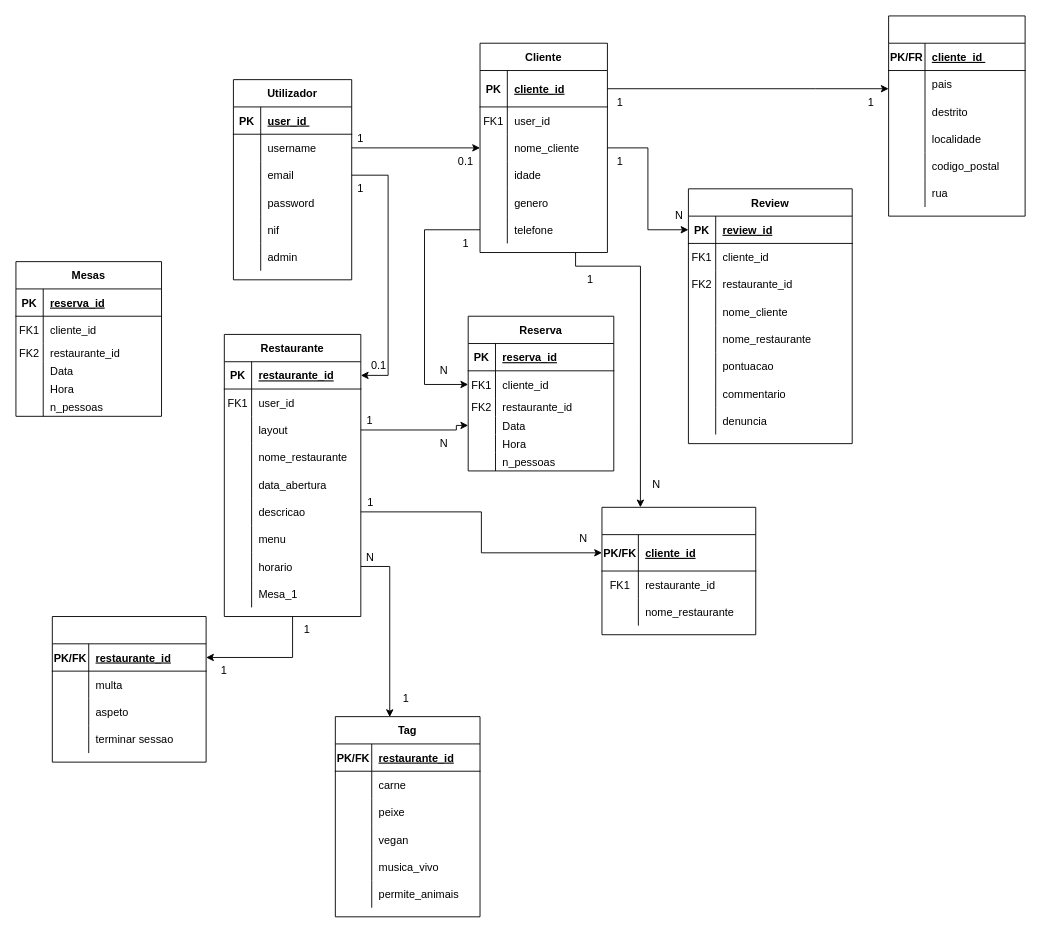
The diagram is 1041 pixels wide and 933 high, and some of its shapes have lost their labels. The shapes that lost their labels are listed below. From the top down, each one's box as (x1, y1, x2, y2) in pixels, then its label:
(888, 15, 1025, 216): Morada
(601, 506, 756, 635): Favoritos
(51, 616, 206, 762): Configuracao
